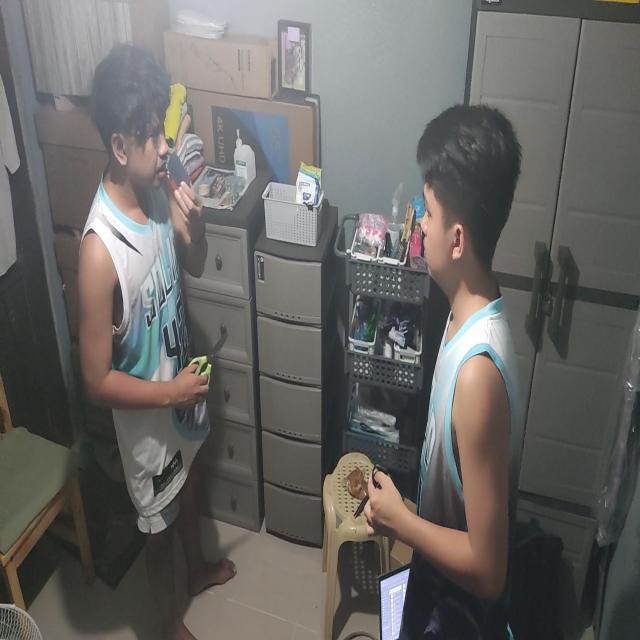scissor: (188, 330, 229, 400), (352, 462, 388, 526)
